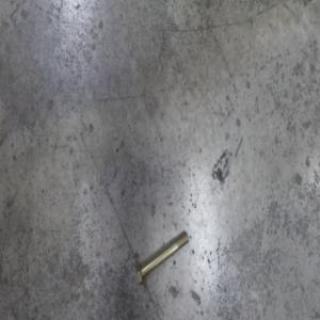Bolttrack_idkeyframe: (133, 229, 187, 290)
